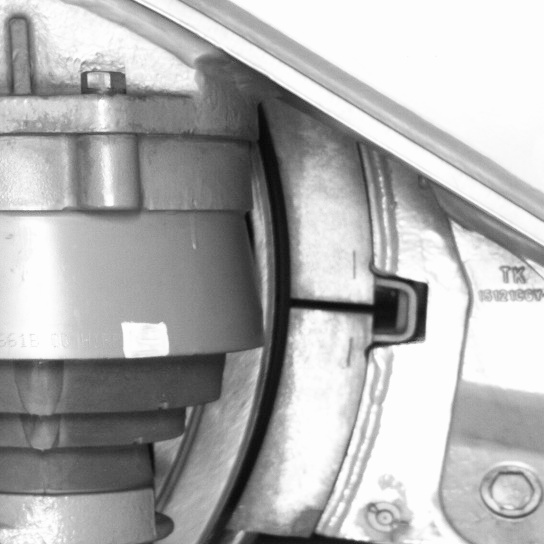KnifeSwitch: (191, 136, 391, 541)
